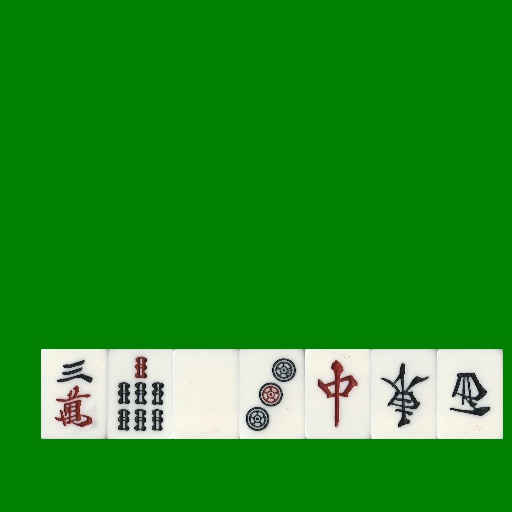3m: (41, 349, 107, 439)
3p: (239, 349, 305, 439)
7s: (107, 349, 173, 439)
east: (371, 349, 437, 439)
tyun: (305, 349, 371, 439)
west: (437, 349, 503, 439)
white: (173, 349, 239, 439)
